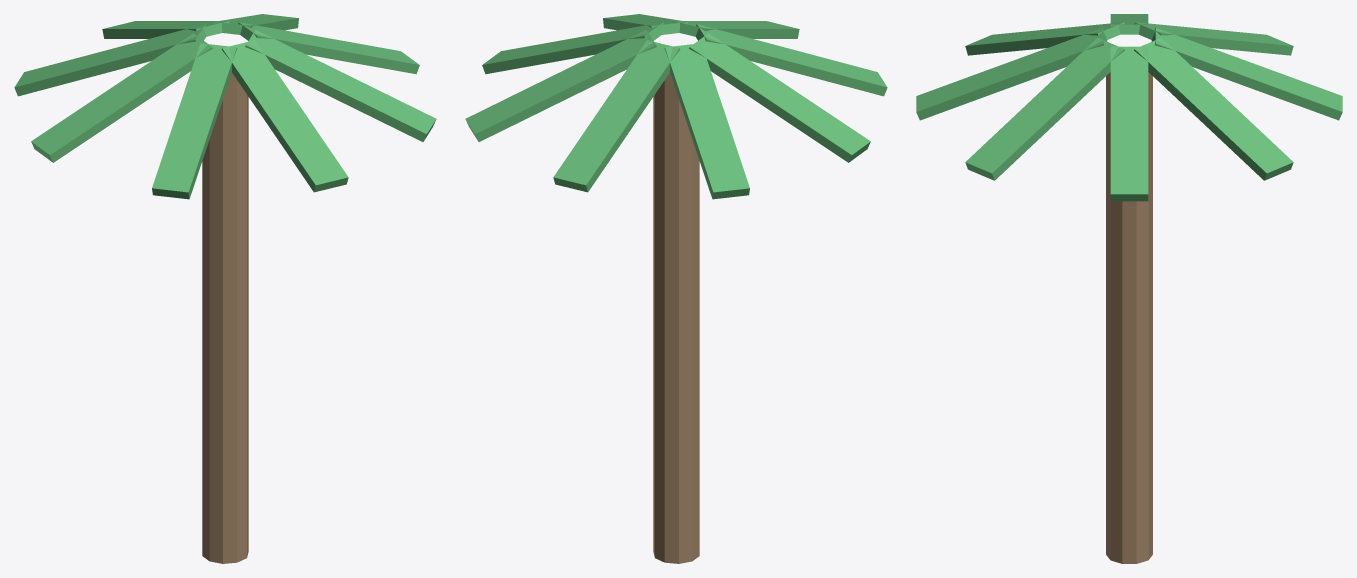
Rendered from palm_tree.glb.
3 views of the same model, side by side, from view 1: azimuth 30°, elevation 25°; view 2: azimuth 150°, elevation 25°; view 3: azimuth 270°, elevation 25° (orthographic).
Visible parts, largest first — view 1: Trunk, Frond_270, Frond_225, Frond_180, Frond_315, Frond_135, Frond_0, Frond_90, Frond_45; view 2: Trunk, Frond_90, Frond_135, Frond_180, Frond_45, Frond_225, Frond_0, Frond_270, Frond_315; view 3: Trunk, Frond_45, Frond_315, Frond_0, Frond_90, Frond_270, Frond_135, Frond_225, Frond_180.
Boxes of the visible parts, x1,y1,x2,y2 form: Trunk: (202,73,248,563); Frond_270: (221,40,348,192); Frond_225: (152,43,237,199); Frond_180: (31,33,212,162); Frond_315: (245,30,436,141); Frond_135: (14,24,206,96); Frond_0: (238,22,419,74); Frond_90: (102,21,228,38); Frond_45: (213,14,298,34); Trunk: (653,73,699,563); Frond_90: (553,40,680,192); Frond_135: (664,43,749,199); Frond_180: (689,33,870,162); Frond_45: (465,30,656,141); Frond_225: (695,24,887,96); Frond_0: (482,22,663,74); Frond_270: (673,21,799,38); Frond_315: (603,14,688,34); Trunk: (1106,72,1152,563); Frond_45: (1134,38,1293,180); Frond_315: (965,38,1124,180); Frond_0: (1110,46,1148,201); Frond_90: (1151,27,1342,120); Frond_270: (916,27,1107,120); Frond_135: (1134,22,1293,55); Frond_225: (965,22,1124,55); Frond_180: (1110,14,1148,34).
Bounding box in the file's own units: 5.07 × 6.81 × 5.07.
